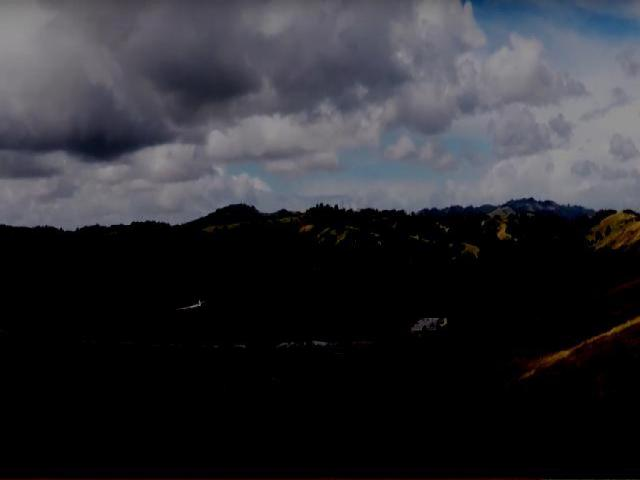iha: (179, 295, 207, 311)
